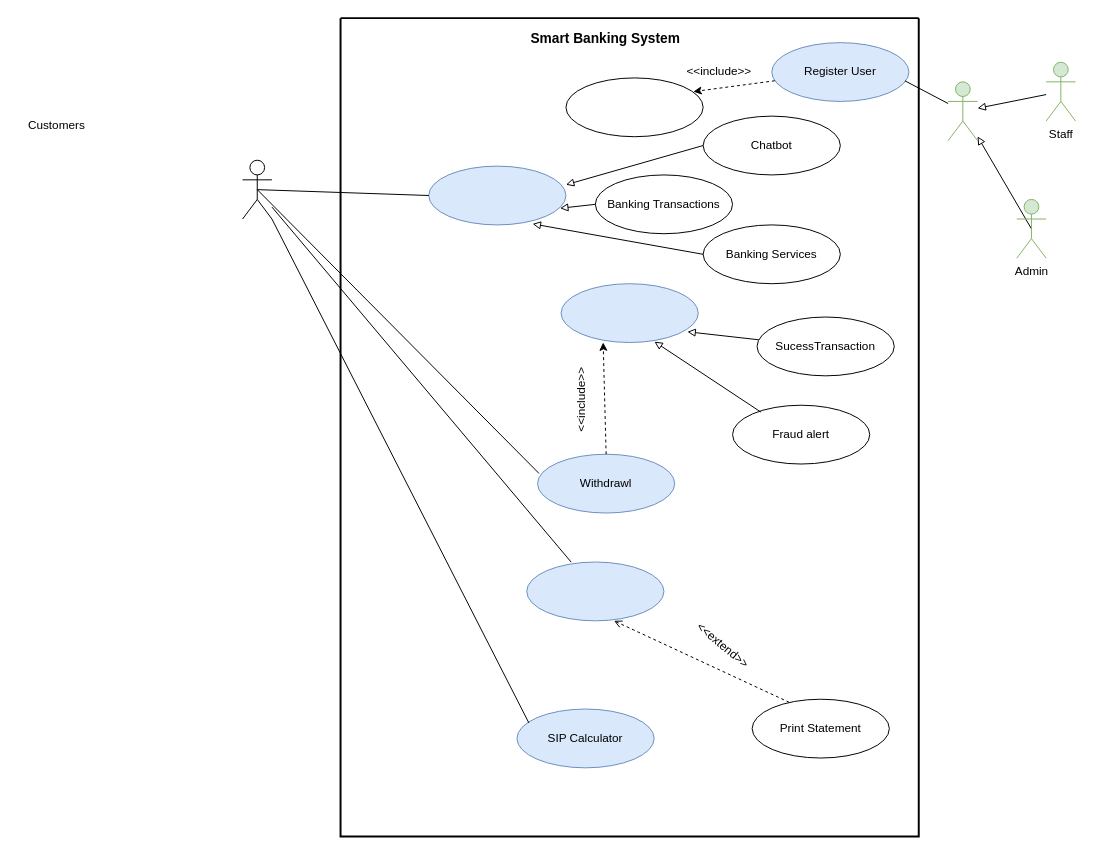
Image size: 1093x854. Some labels were removed from this diagram. The centre of each missing label's shape, as x and y in pixels:
"Actor" goes at [962,111].
"Customer" goes at [257,189].
"Fraud Detection" goes at [629,313].
"Login" goes at [497,195].
"Perform Validation" goes at [634,107].
"View Statement" goes at [595,591].
